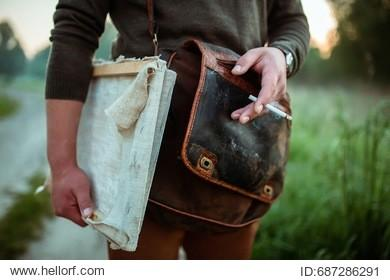Cigarette: (249, 95, 292, 122)
